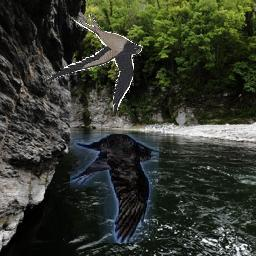Crow: (71, 135, 160, 244)
Swallow: (45, 15, 143, 116)
